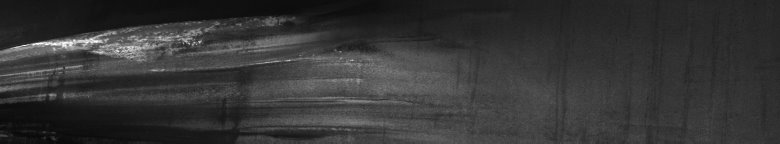ke: (4, 12, 457, 136)
